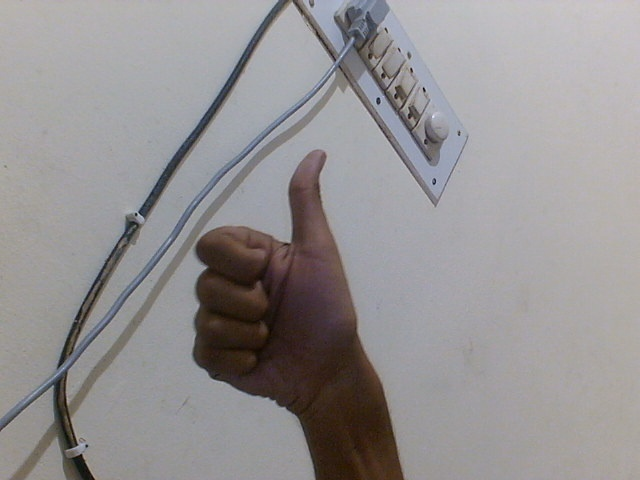hand: (181, 146, 366, 415)
